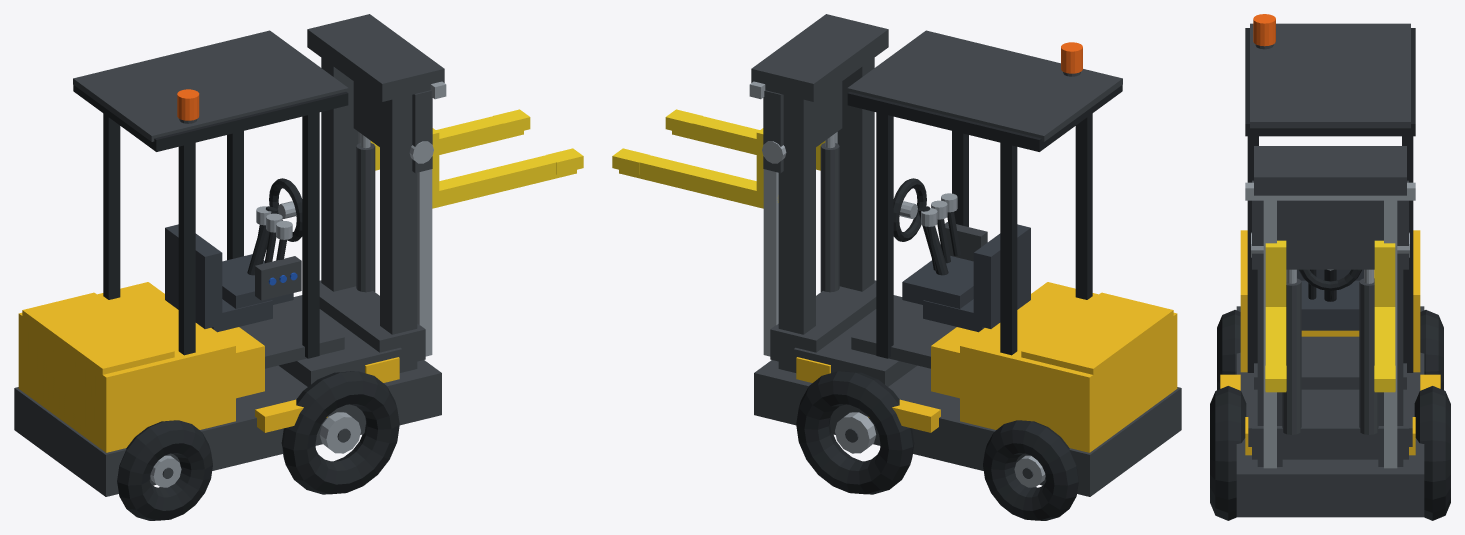
File: forkliftbaru.glb
3 renders of one model, left to right at view 1: azimuth 30°, elevation 25°; view 2: azimuth 150°, elevation 25°; view 3: azimuth 270°, elevation 25°, orthographic. The views are drawn at different scales.
Visible parts, largest first — view 1: ForkliftBody_MERGED, DriveWheel_L, SteerWheel_L, Fork_-0.48, Carriage, Fork_0.48, DriveWheel_L_Hub, SteerWheel_L_Hub; view 2: ForkliftBody_MERGED, DriveWheel_R, SteerWheel_R, Fork_0.48, Carriage, Fork_-0.48, DriveWheel_R_Hub, SteerWheel_R_Hub; view 3: ForkliftBody_MERGED, Carriage, DriveWheel_L, DriveWheel_R, SteerWheel_L, SteerWheel_R, ForkHeel_0.48, ForkHeel_-0.48, Fork_-0.48, Fork_0.48, CarriageBar, ForkTip_0.48 (+1 smaller).
Part boxes in pixels (box(x1,y1,x2,y2)): ForkliftBody_MERGED: box(14, 14, 444, 496); DriveWheel_L: box(281, 371, 399, 494); SteerWheel_L: box(117, 420, 212, 520); Fork_-0.48: box(432, 155, 576, 208); Carriage: box(353, 81, 432, 172); Fork_0.48: box(375, 116, 523, 170); DriveWheel_L_Hub: box(319, 412, 360, 453); SteerWheel_L_Hub: box(150, 455, 181, 487); ForkliftBody_MERGED: box(751, 14, 1181, 496); DriveWheel_R: box(796, 371, 914, 494); SteerWheel_R: box(983, 420, 1078, 520); Fork_0.48: box(619, 155, 778, 208); Carriage: box(763, 81, 842, 172); Fork_-0.48: box(672, 116, 820, 170); DriveWheel_R_Hub: box(835, 412, 876, 453); SteerWheel_R_Hub: box(1014, 455, 1045, 487); ForkliftBody_MERGED: box(1220, 14, 1440, 517); Carriage: box(1252, 180, 1408, 269); DriveWheel_L: box(1210, 386, 1246, 520); DriveWheel_R: box(1414, 386, 1450, 520); SteerWheel_L: box(1217, 310, 1240, 390); SteerWheel_R: box(1420, 310, 1443, 390); ForkHeel_0.48: box(1374, 240, 1395, 306); ForkHeel_-0.48: box(1265, 240, 1286, 306); Fork_-0.48: box(1265, 307, 1286, 392); Fork_0.48: box(1374, 307, 1395, 392); CarriageBar: box(1245, 182, 1415, 200); ForkTip_0.48: box(1374, 365, 1395, 391).
Bounding box in the file's own units: 5.12 × 4.17 × 2.12.
